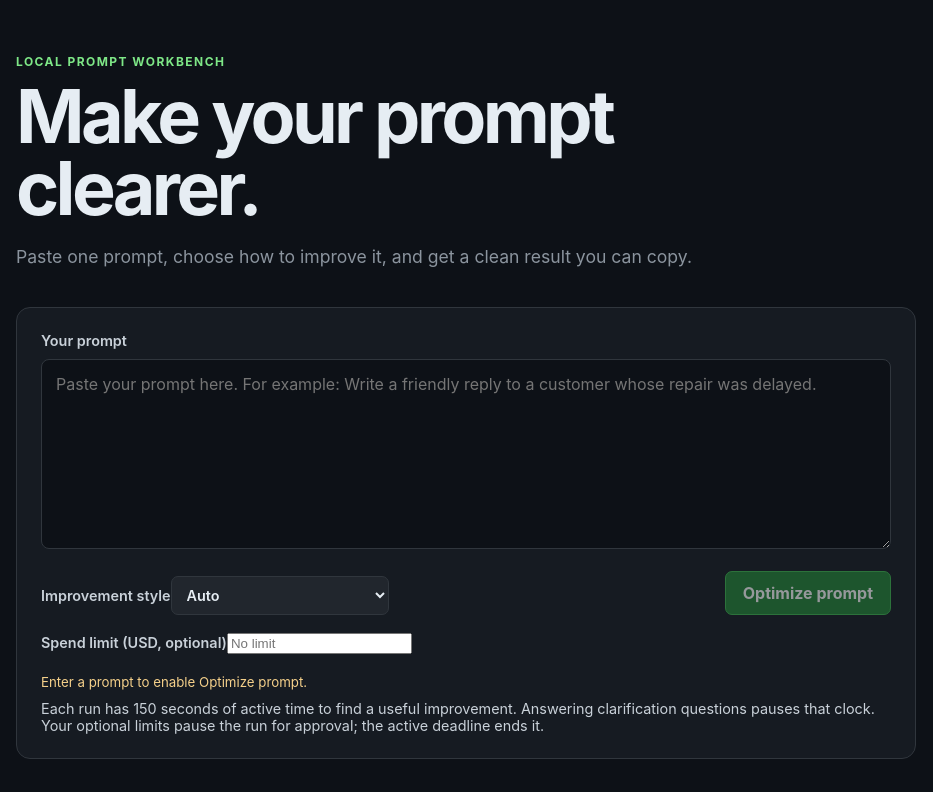
Test: run control › stops a paused run permanently
The width and height of the screenshot is (933, 792).
Type "Write a note to my neighbour." into the text box labelled "Your prompt" at (466, 454), box [41, 359, 891, 549]
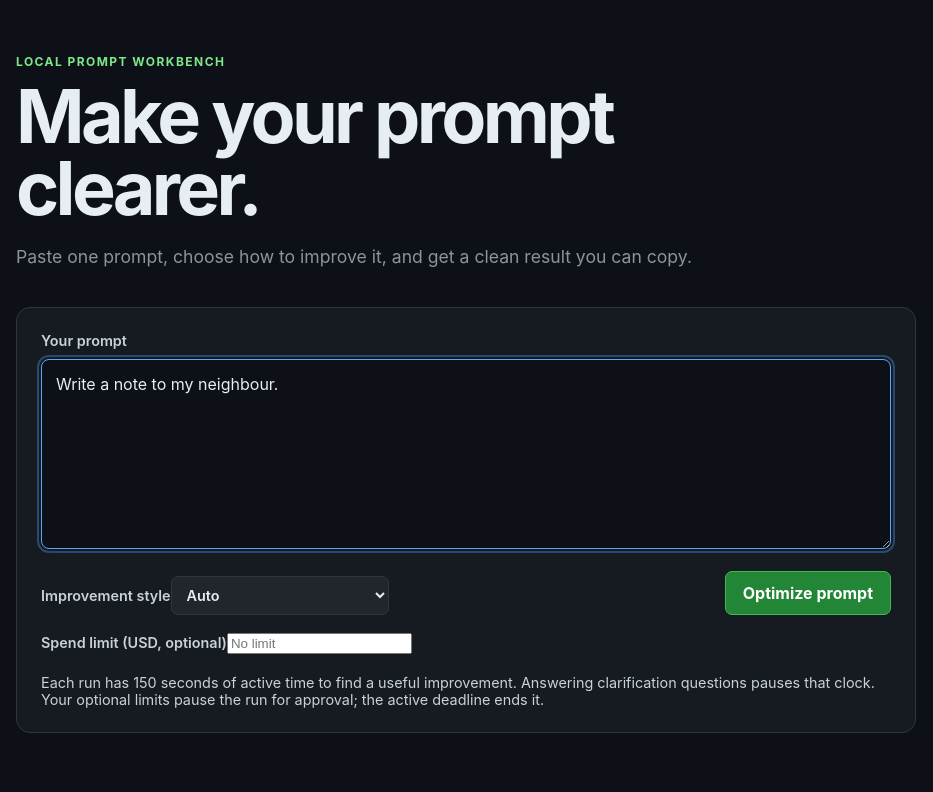
Click the button "Optimize prompt" at (808, 593), box [725, 571, 891, 615]
(page scrolled)
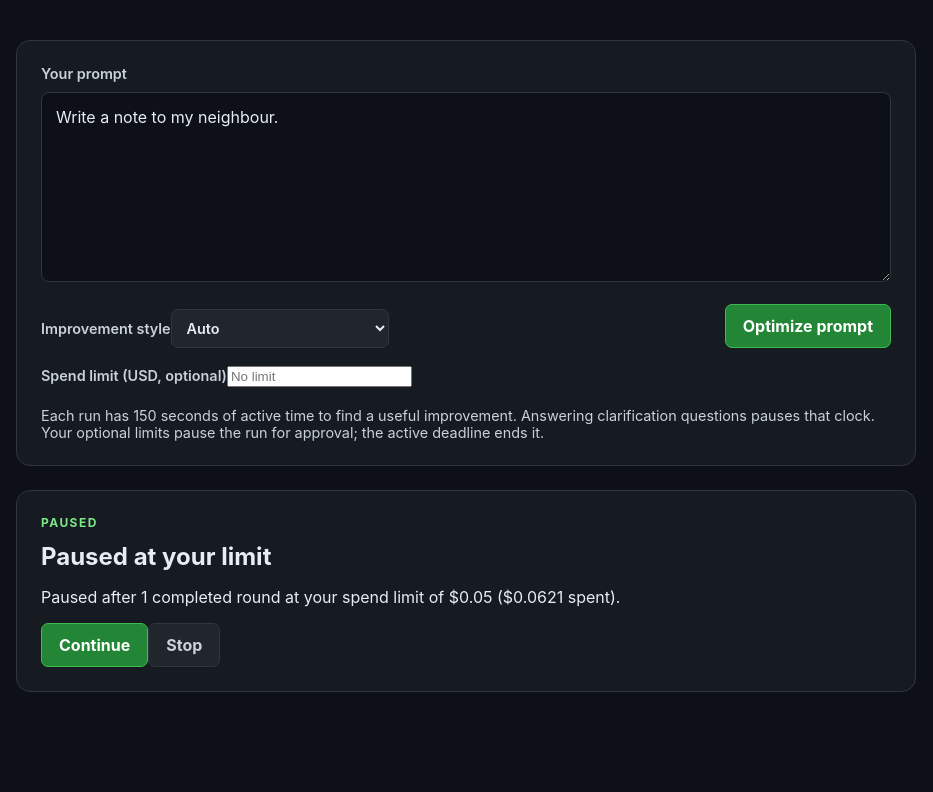
Click the button "Stop" at (184, 645), box [148, 623, 220, 667]
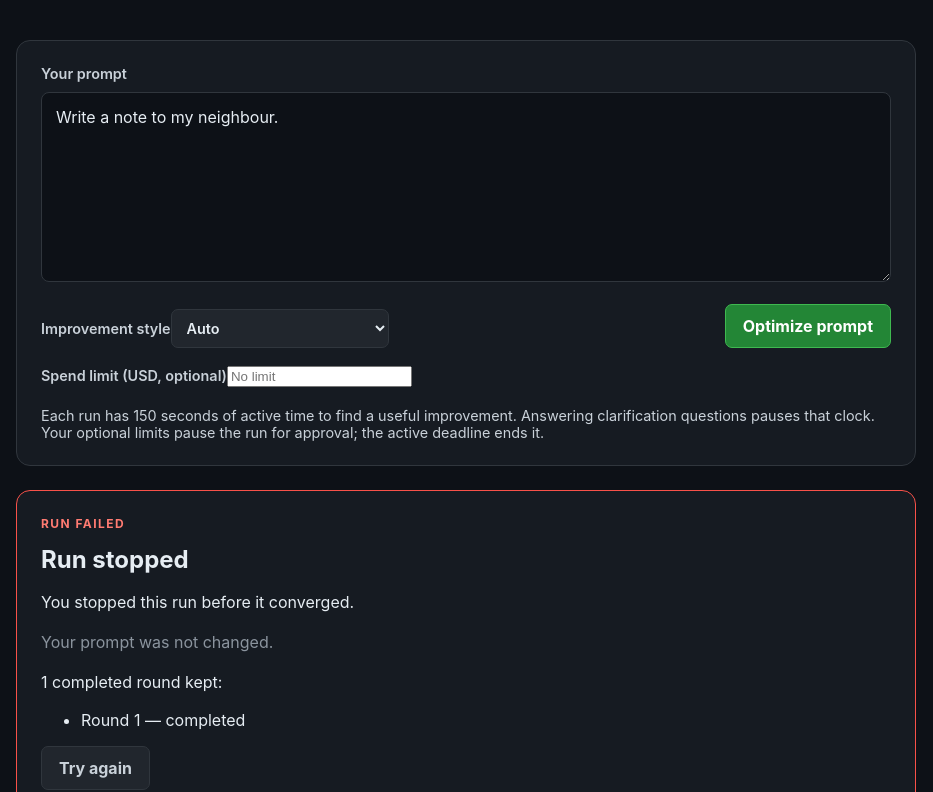
Check: the heading "Run stopped" is shown, box [41, 545, 189, 574]
